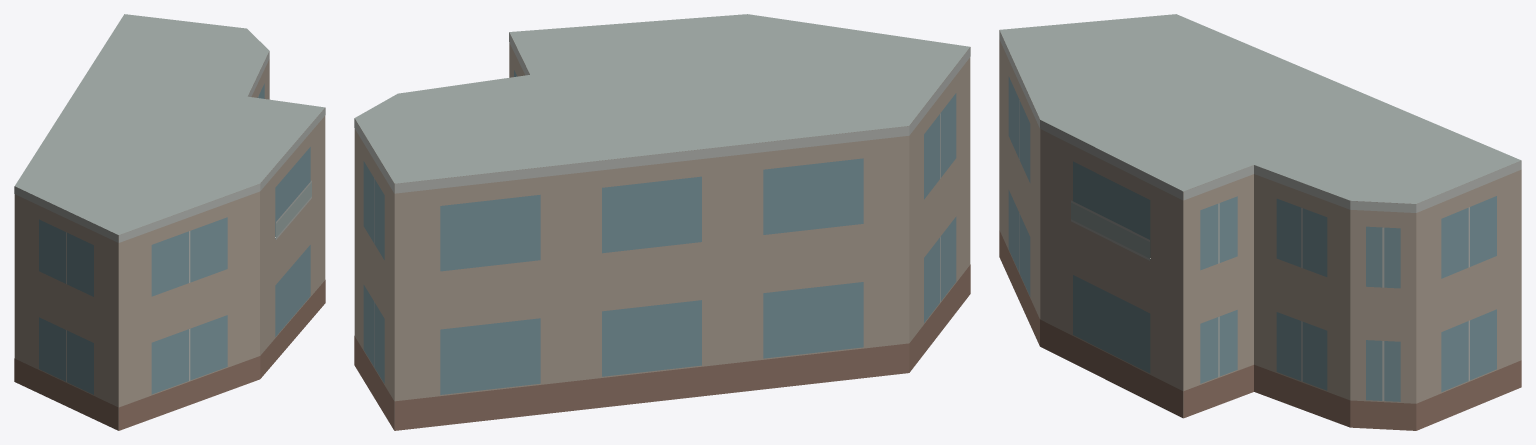
Rendered from survey-upis-32617259.glb.
3 renders of one model, left to right at view 1: azimuth 30°, elevation 25°; view 2: azimuth 150°, elevation 25°; view 3: azimuth 270°, elevation 25°, orthographic. The views are drawn at different scales.
Visible parts, largest first — view 1: survey-upis-32617259.tmp; view 2: survey-upis-32617259.tmp; view 3: survey-upis-32617259.tmp.
Part boxes in pixels (<box>): survey-upis-32617259.tmp: <box>14,14,325,430</box>; survey-upis-32617259.tmp: <box>354,14,970,430</box>; survey-upis-32617259.tmp: <box>999,14,1521,430</box>.
Size of the model in its own units: 10.97 by 6.1 by 12.74.
